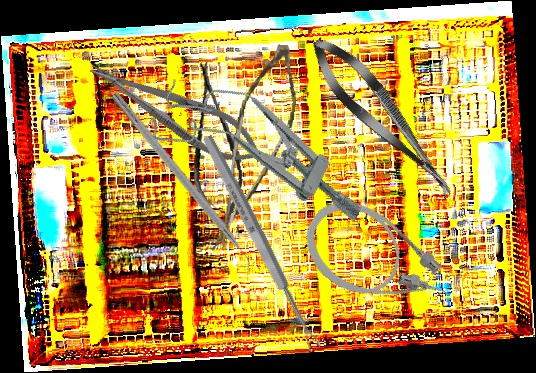Cannula: (290, 184, 466, 341)
Chopper: (100, 91, 263, 283)
Micro Scissor: (300, 27, 466, 209), (211, 39, 303, 262), (182, 59, 248, 226)
Needle Holder: (80, 45, 273, 179)
Speculum: (143, 58, 385, 239)
Surgical Spoon: (199, 133, 323, 353)
